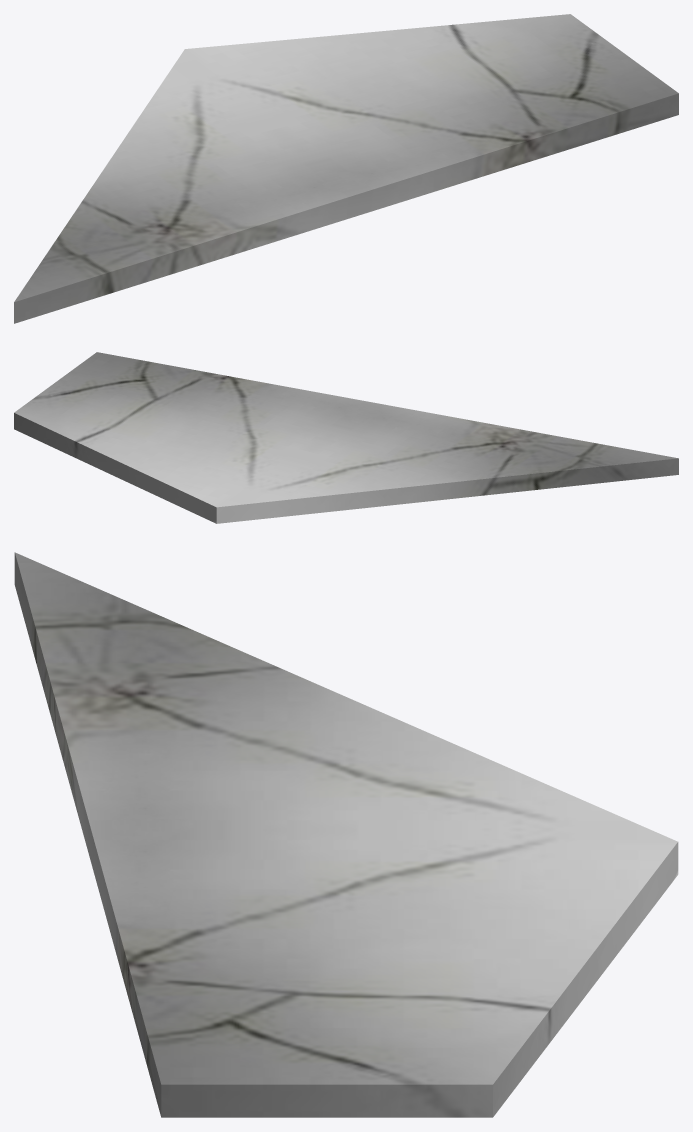
Rendered from Building1_ShatterPanel7.fbx.
The picture shows the model from 3 angles, top to bottom: view 1: azimuth 30°, elevation 25°; view 2: azimuth 150°, elevation 25°; view 3: azimuth 270°, elevation 25°; orthographic projection. The views are drawn at different scales.
Parts seen in each view (by area): view 1: Building1_SHatterPanel7; view 2: Building1_SHatterPanel7; view 3: Building1_SHatterPanel7.
Boxes of the visible parts, <box> form: Building1_SHatterPanel7: <box>14,14,678,323</box>; Building1_SHatterPanel7: <box>14,352,678,523</box>; Building1_SHatterPanel7: <box>14,552,678,1117</box>.
Bounding box in the file's own units: 108 × 3.12 × 56.67.
